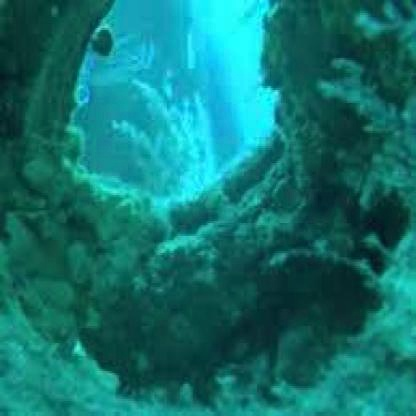tire: (1, 2, 388, 356)
